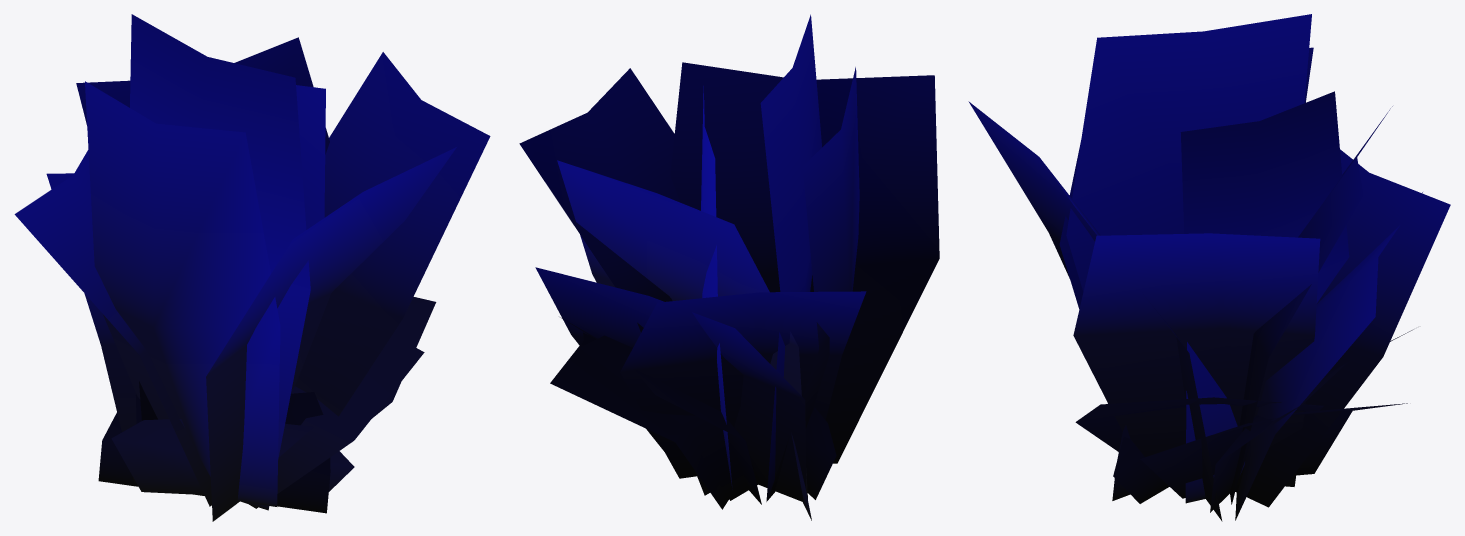
The model's file is SM_Grass_M_S_02.fbx.
The picture shows the model from 3 angles, left to right: view 1: azimuth 30°, elevation 25°; view 2: azimuth 150°, elevation 25°; view 3: azimuth 270°, elevation 25°; orthographic projection. The views are drawn at different scales.
Parts seen in each view (by area): view 1: SM_Grass_M_S_02; view 2: SM_Grass_M_S_02; view 3: SM_Grass_M_S_02.
Boxes of the visible parts, box(x1,y1,x2,y2) form: SM_Grass_M_S_02: box(14, 14, 490, 521); SM_Grass_M_S_02: box(519, 14, 939, 520); SM_Grass_M_S_02: box(968, 14, 1450, 521).
Size of the model in its own units: 85.1 by 97.16 by 99.34.
